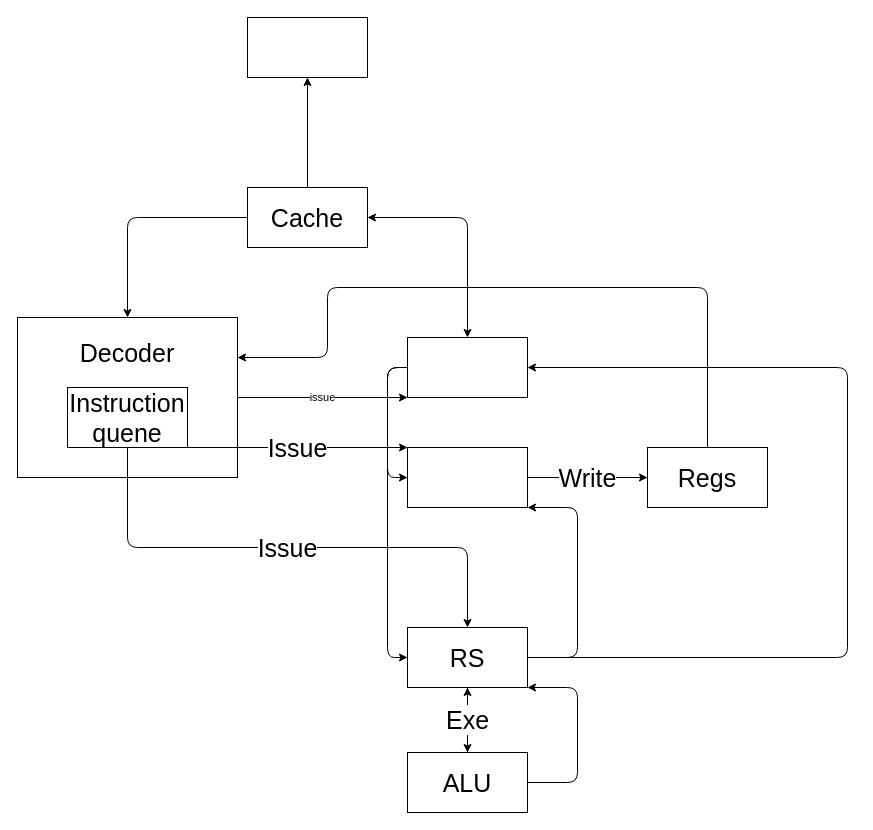
Some shapes in this 873 by 830 pixel diagram are drawn without their labels. The shapes that lost their labels are listed below. From the top down, each one's box as (x1, y1, x2, y2) in pixels, then its label:
(246, 16, 368, 78): Memory
(406, 336, 528, 398): LSB
(406, 446, 528, 508): ROB
